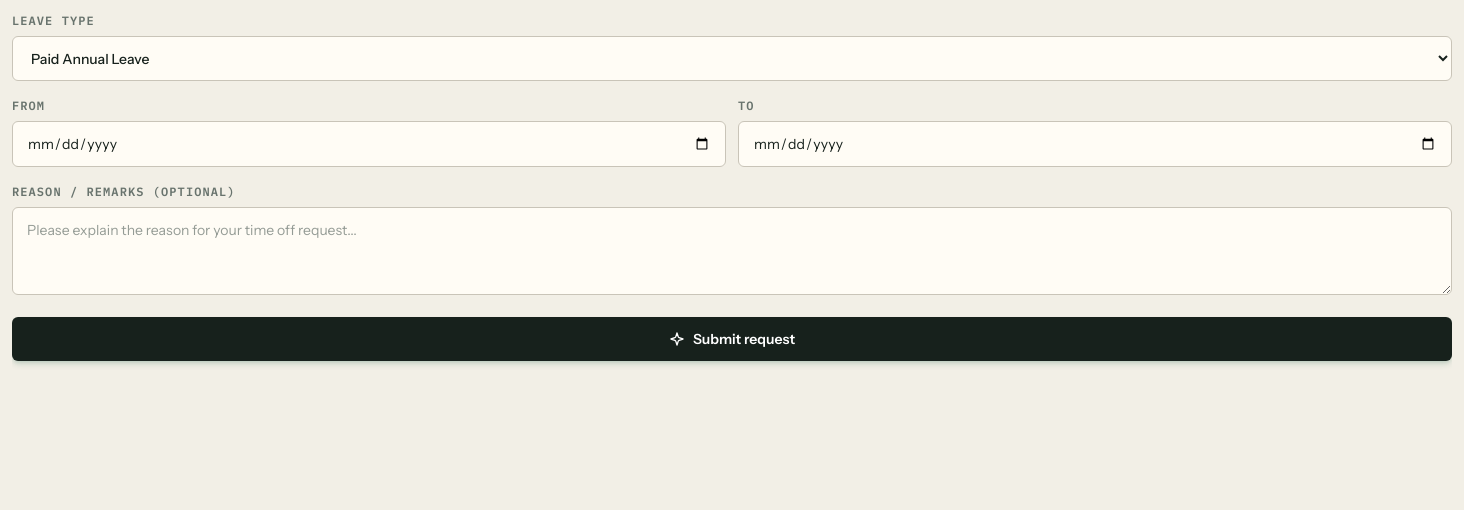
LeaveForm › keeps what the employee typed when the request is rejected
In the text box labelled "Reason / Remarks (Optional)": (732,251) [12,207,1452,295], type "Family wedding in Pune."
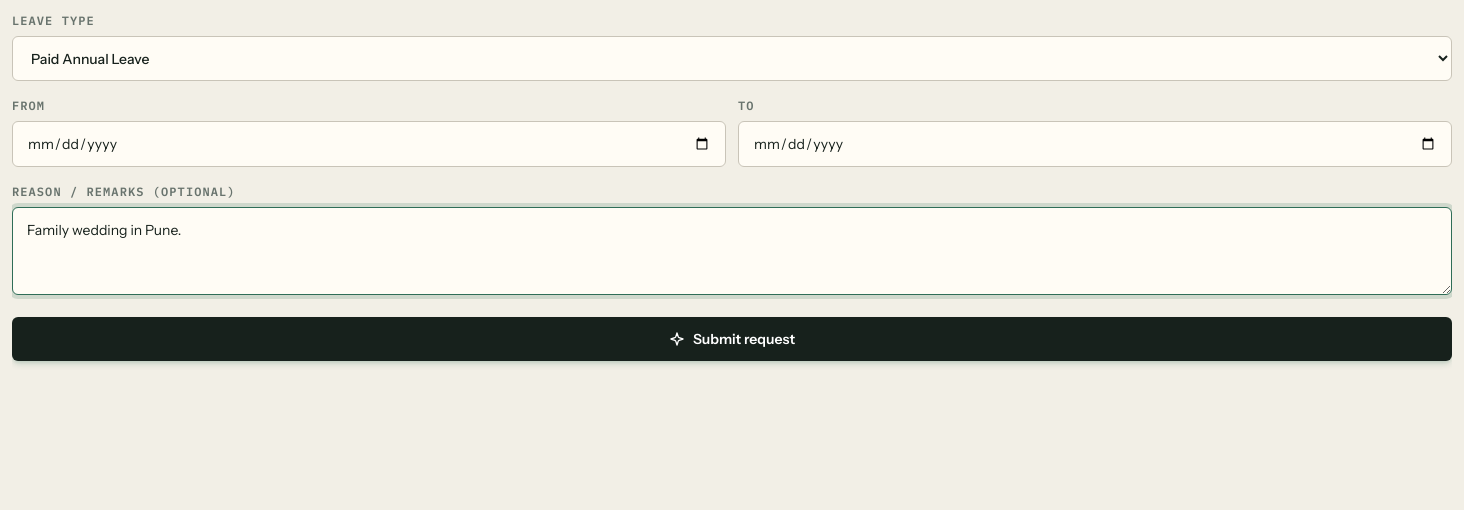
Select "Sick / Medical Leave" in the dropdown labelled "Leave type": (732,58) [12,36,1452,81]
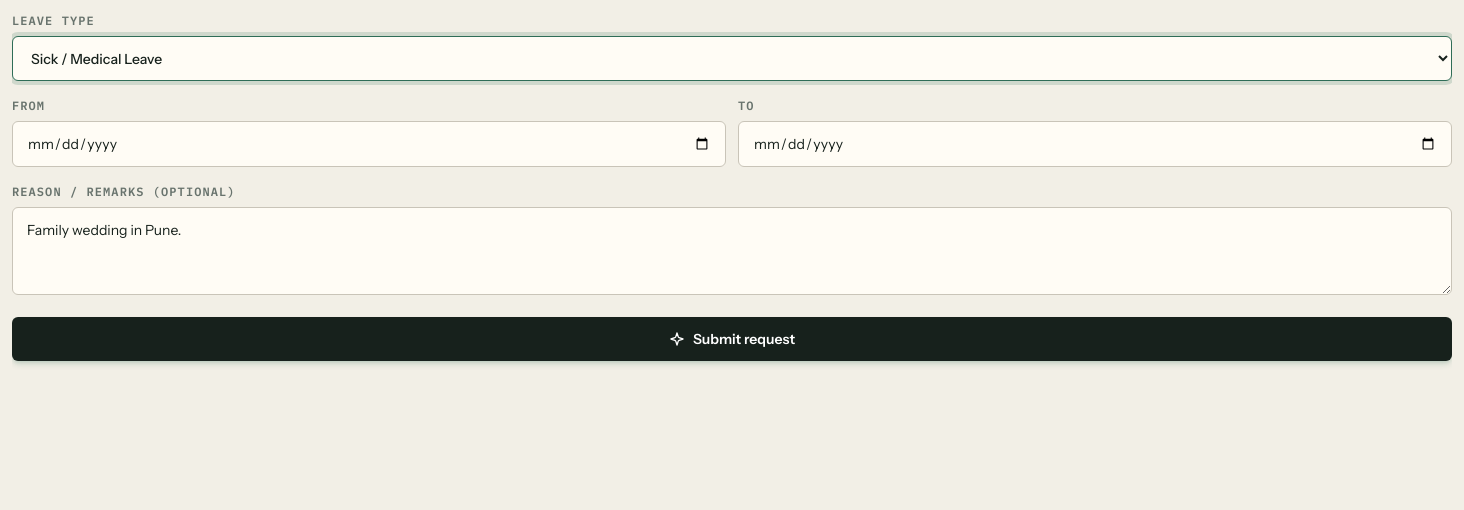
In the date field labelled "From": (369,144) [12,121,726,167], type "2026-09-07"
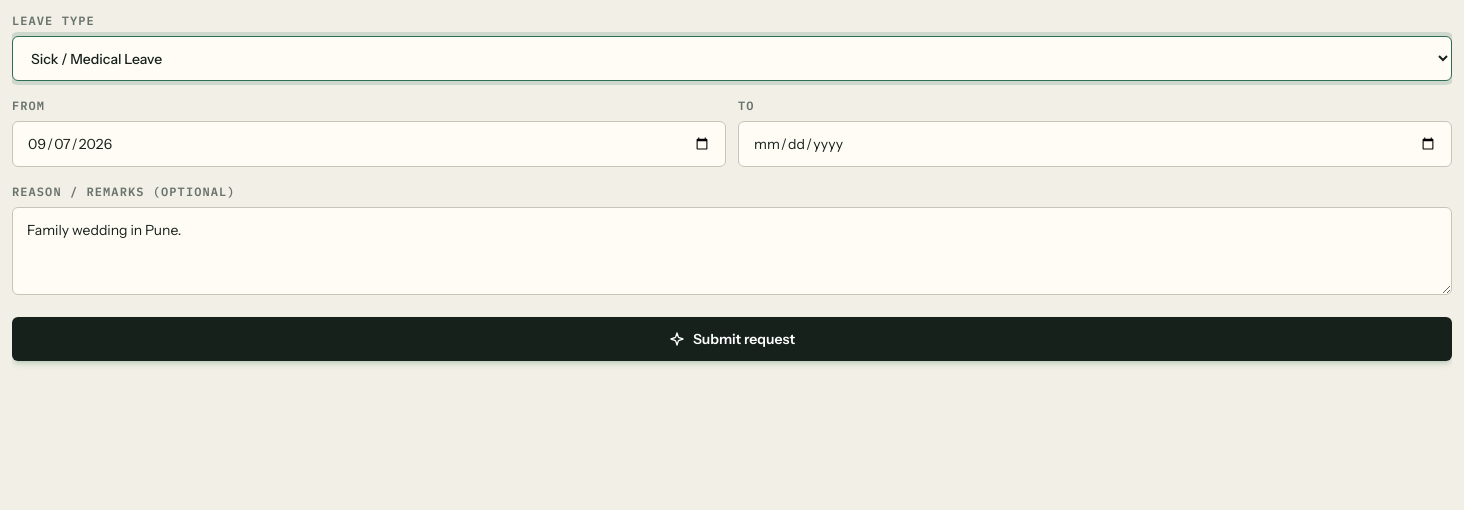
In the date field labelled "To": (1095,144) [738,121,1452,167], type "2026-09-11"
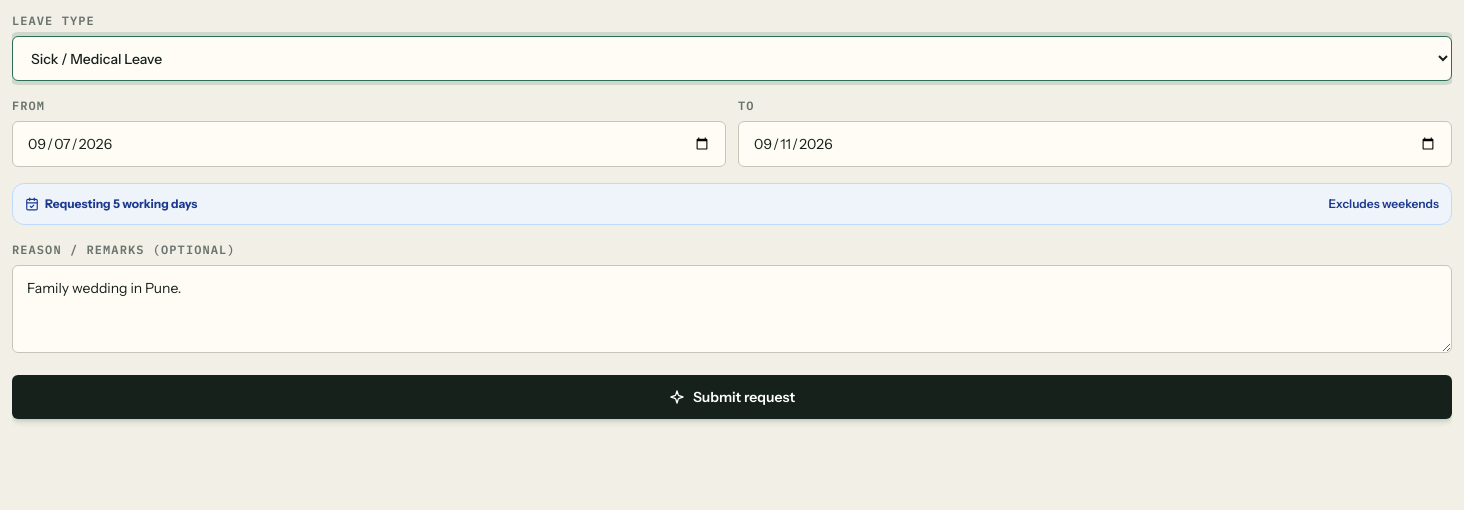
Click the button "Submit request": (732,397) [12,375,1452,419]
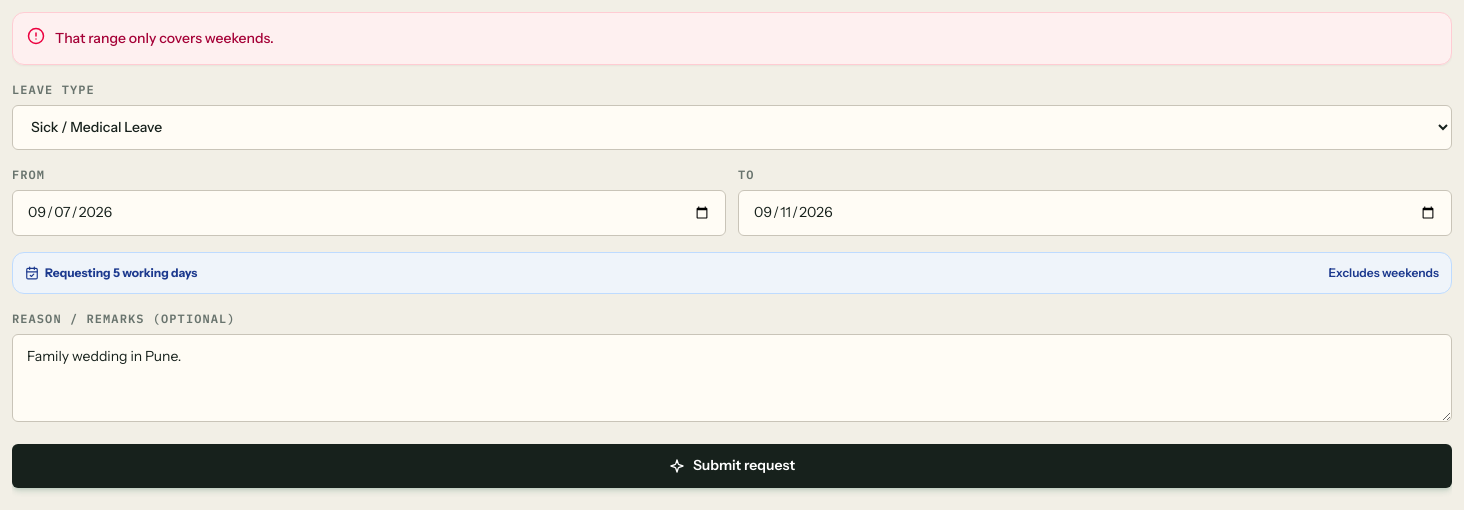
Check: the text "That range only covers weekends." is shown, box [55,29,274,47]
